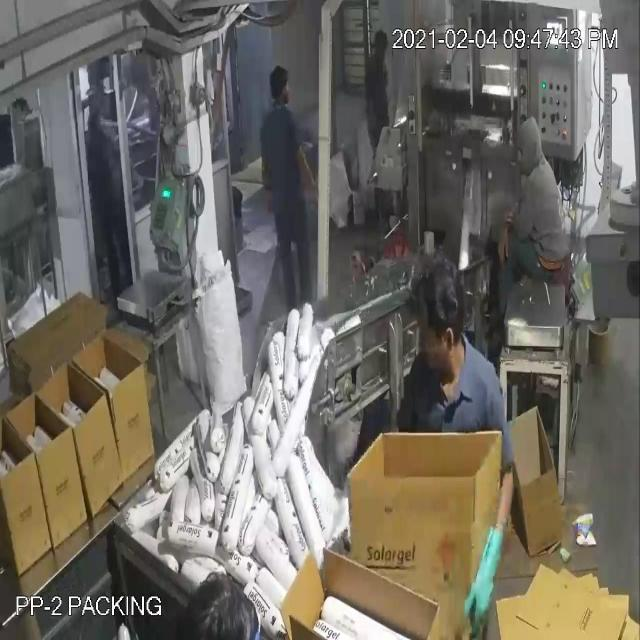No_Gloves: (18, 68, 505, 562)
